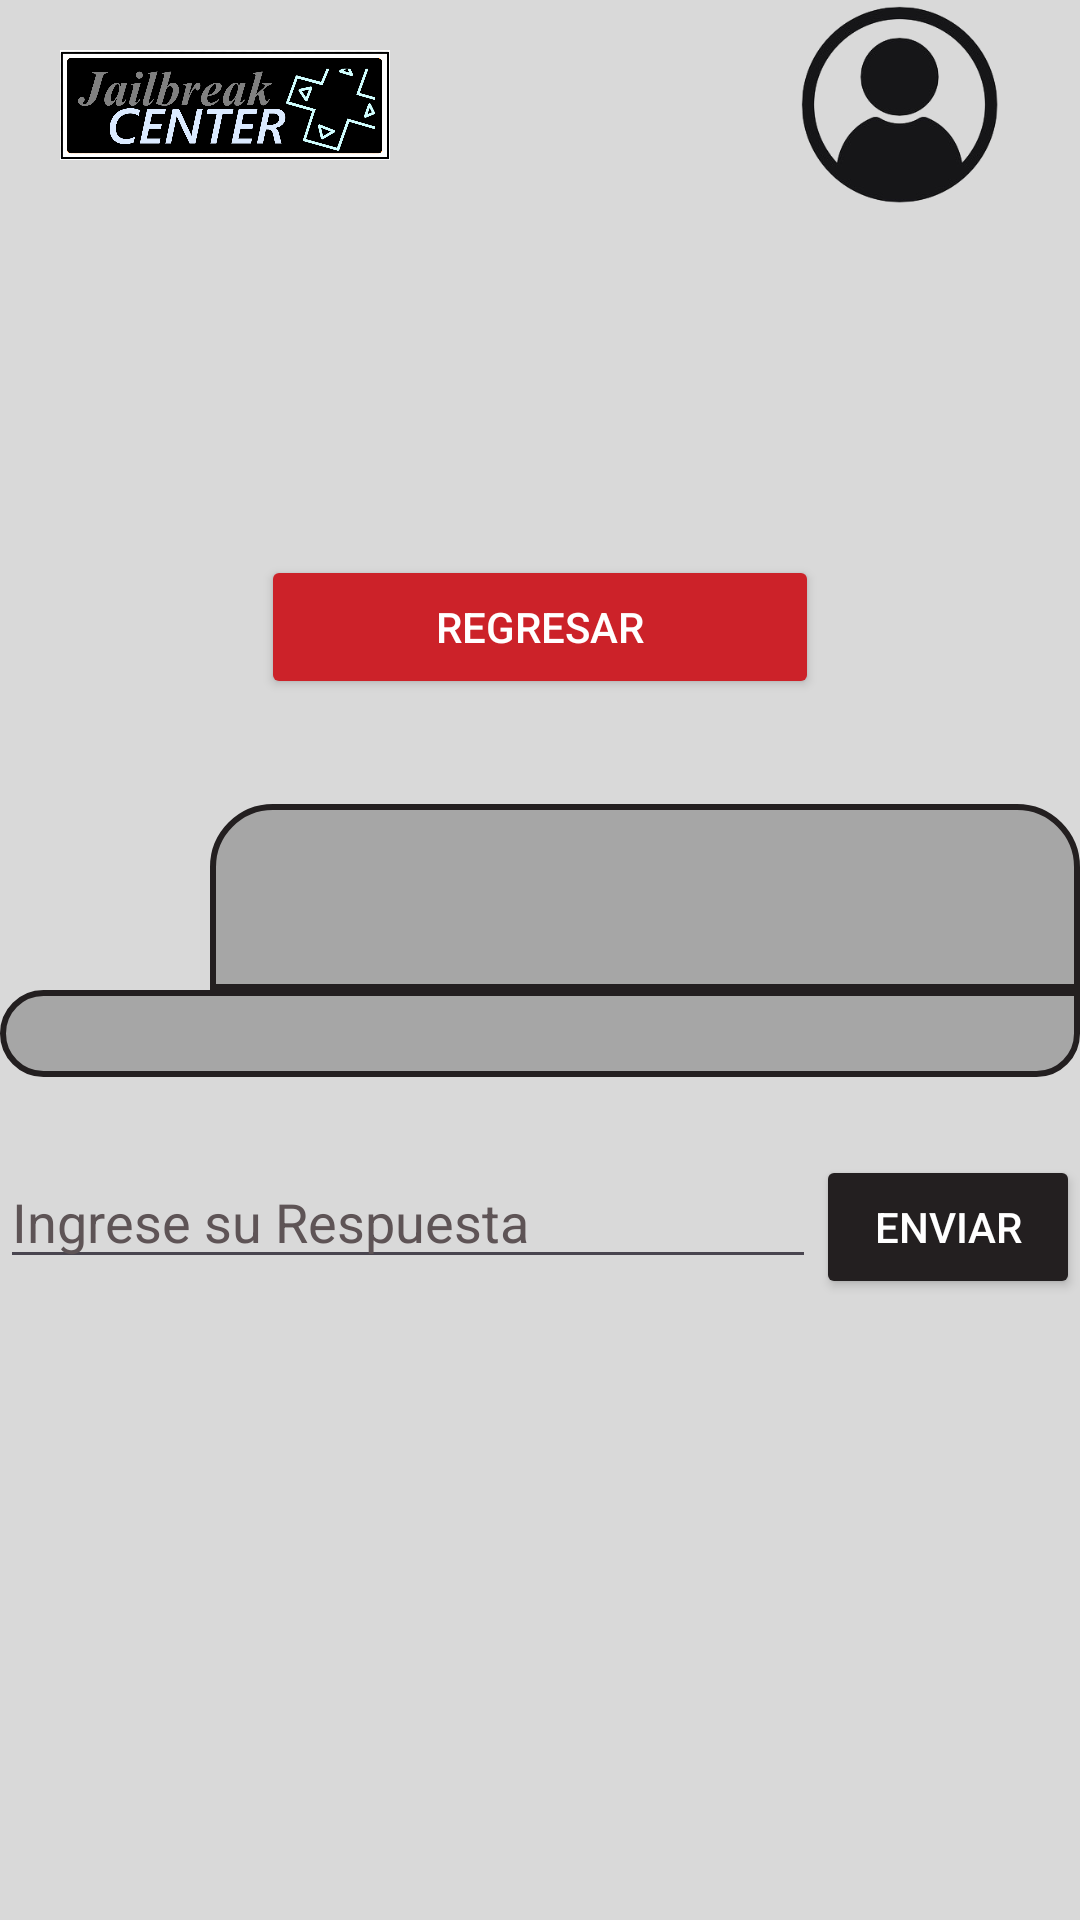

Icons on this 1080 x 1920 Android screen, each with its box as (x1,y1,x2,y2):
User login: (802,7,998,203)
